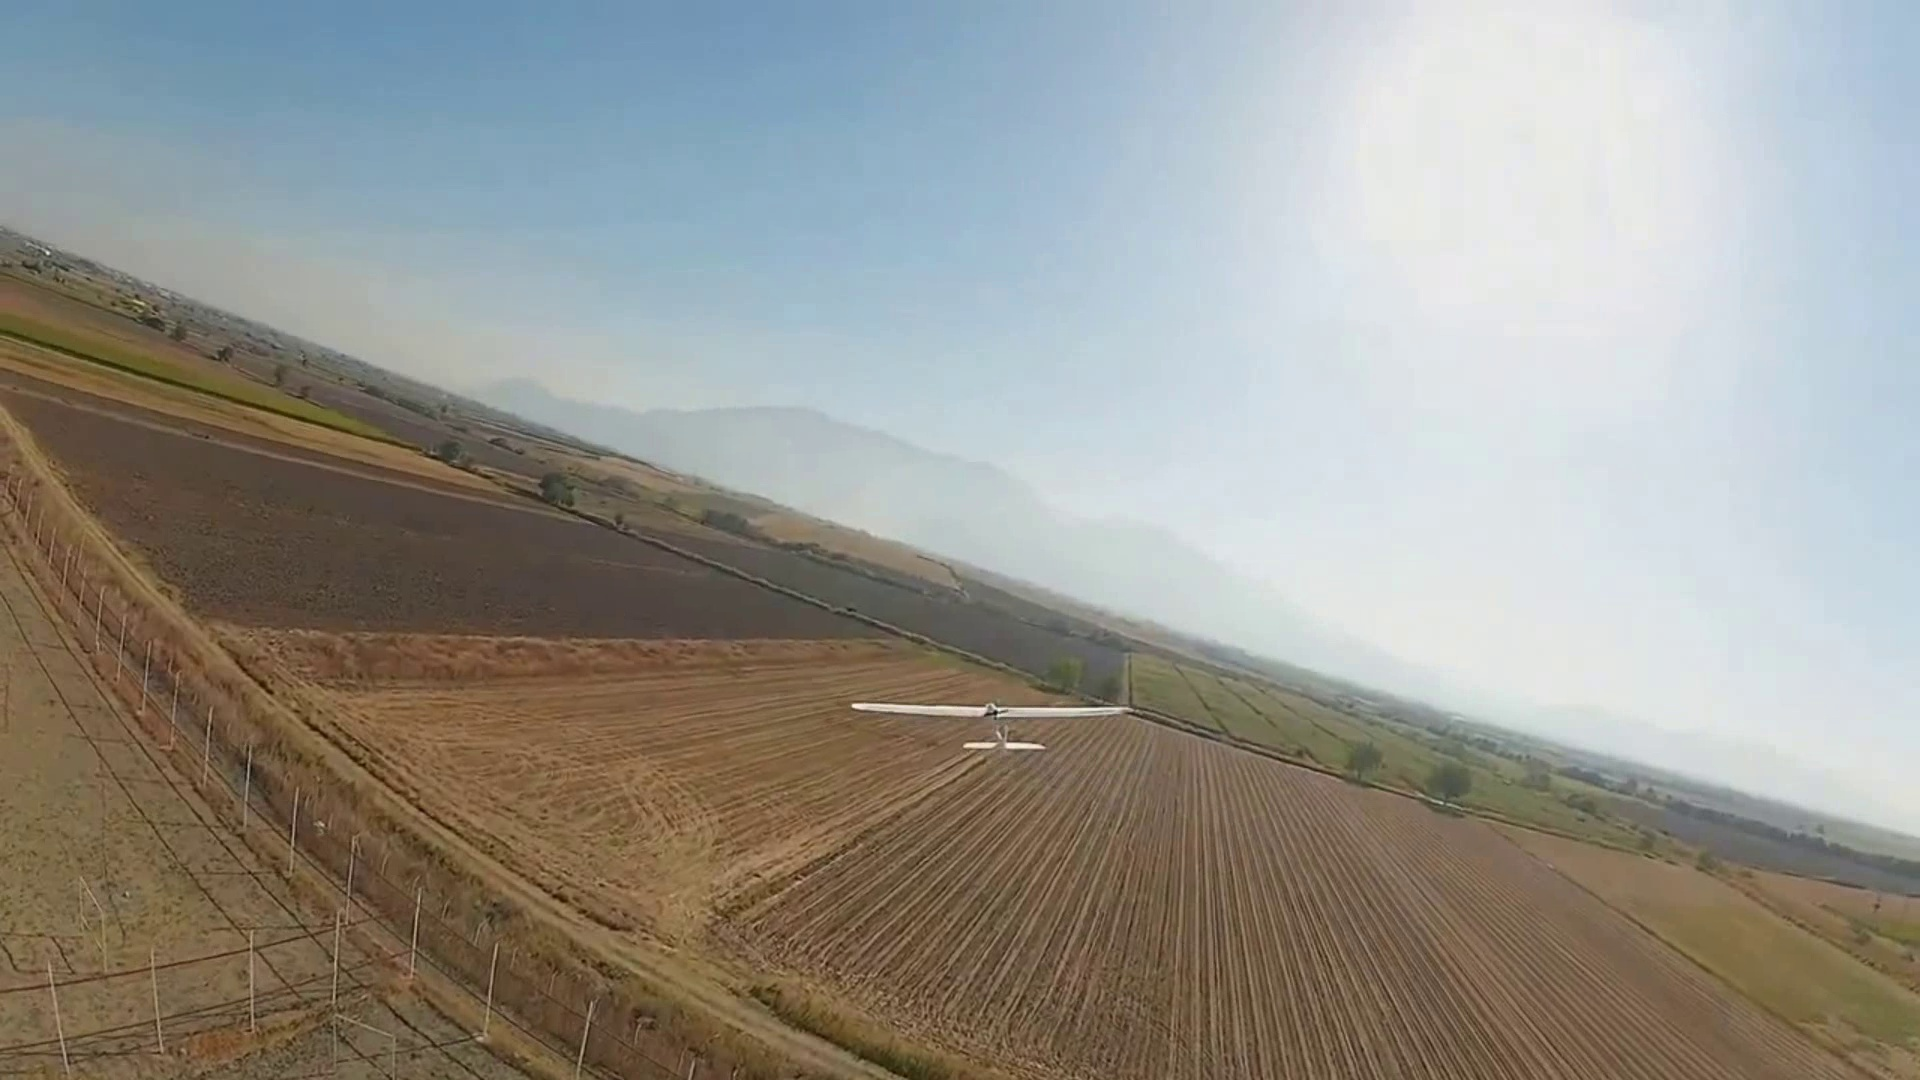airplane: (20, 274, 1919, 918)
